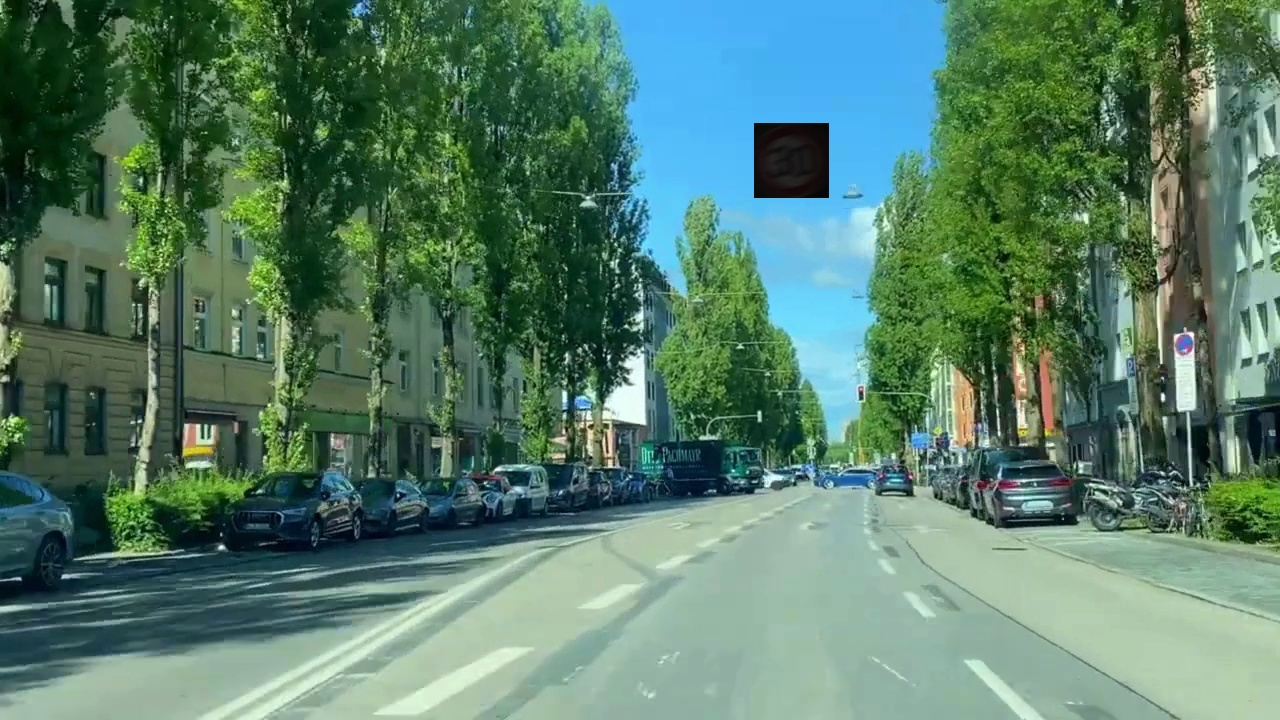Speed 30: (754, 123, 829, 198)
